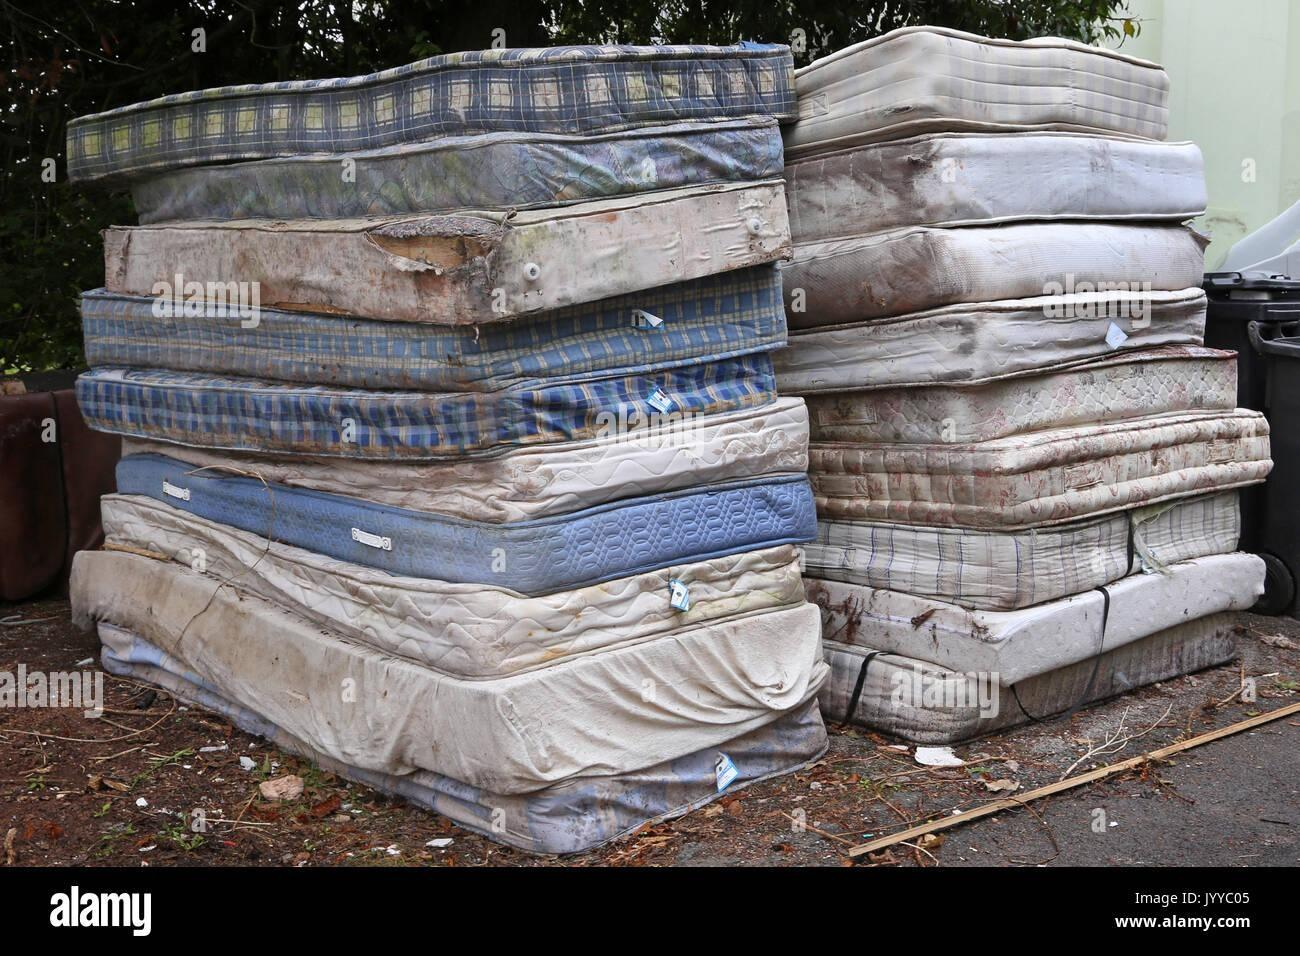Bed-Mattress: (76, 473, 816, 676), (57, 18, 794, 188), (75, 177, 801, 326), (780, 397, 1279, 546)
